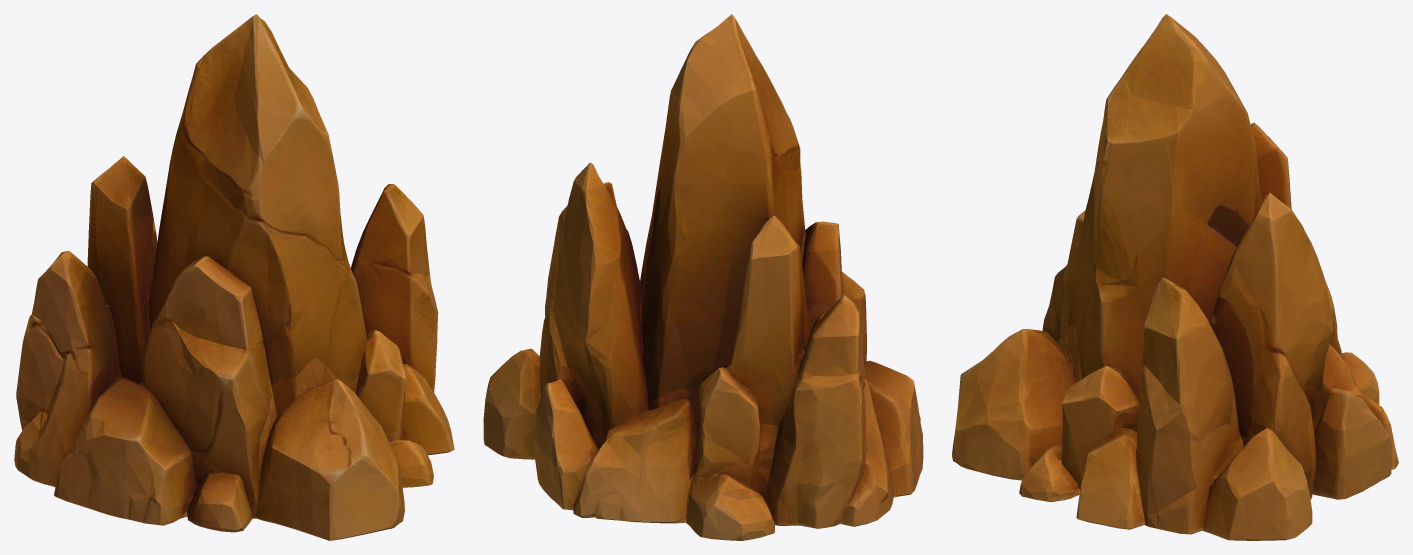
The model's file is crystal_cluster_10.glb.
The picture shows the model from 3 angles, left to right: view 1: azimuth 30°, elevation 25°; view 2: azimuth 150°, elevation 25°; view 3: azimuth 270°, elevation 25°; orthographic projection. The views are drawn at different scales.
Size of the model in its own units: 1.84 by 1.98 by 1.85.
1 material, 1 textured.
